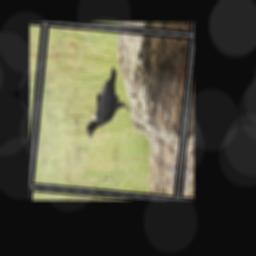Crow: (85, 64, 135, 141)
